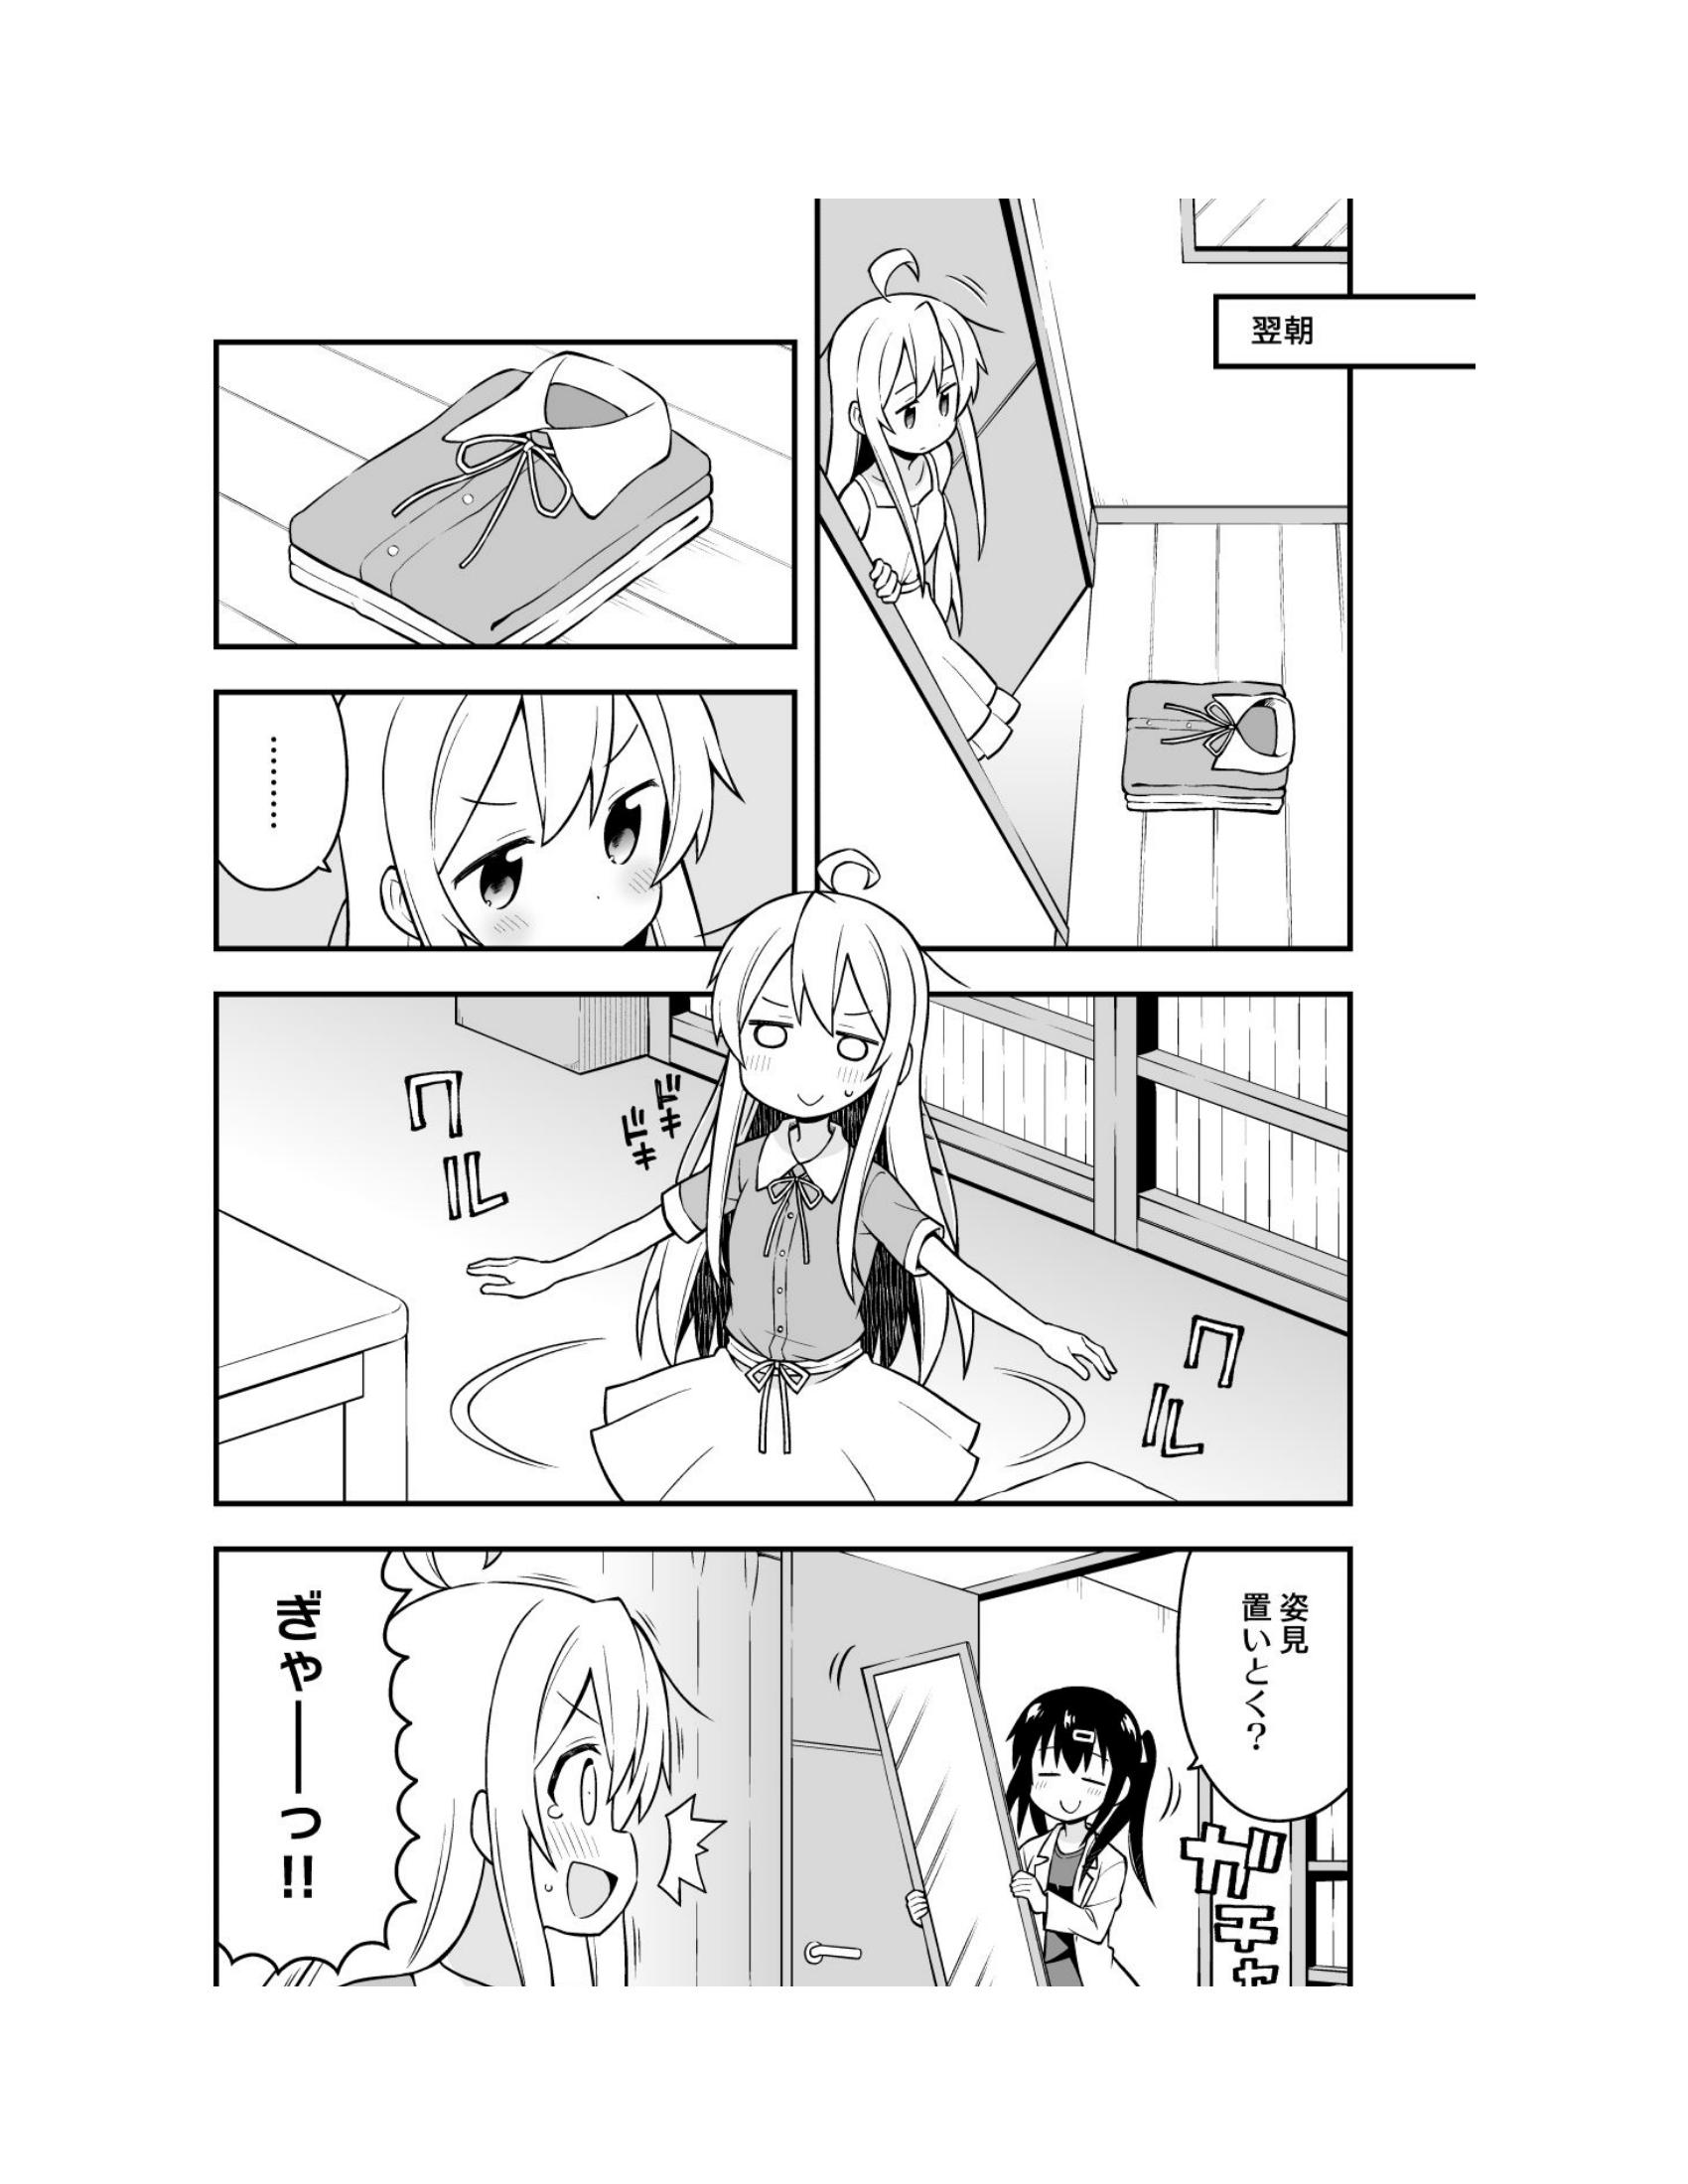a: (211, 1569, 433, 1975), (1144, 1528, 1365, 1810)
